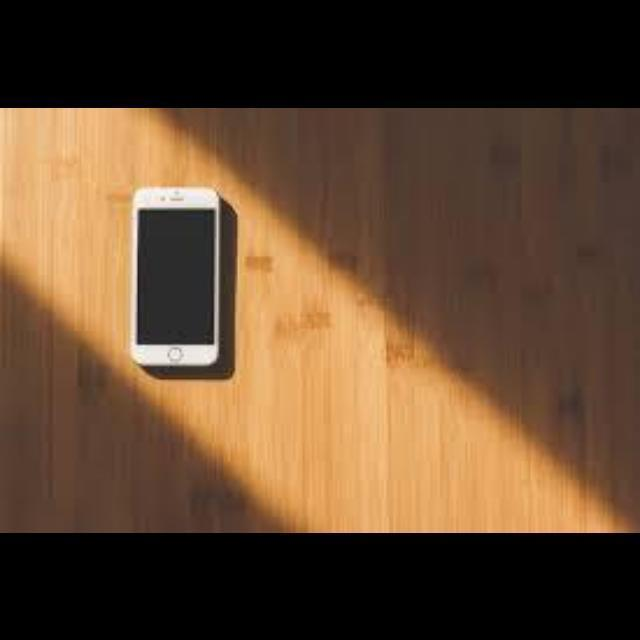phone: (130, 199, 228, 379)
